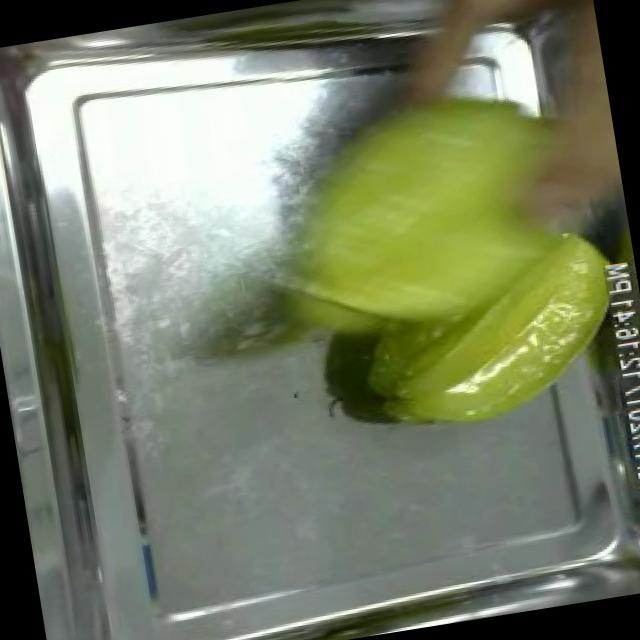fruit: (240, 51, 640, 467)
